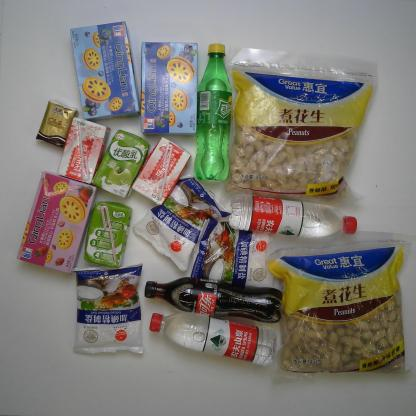Dessert: (16, 171, 100, 274), (67, 20, 141, 122), (138, 37, 205, 135)
Dried Food: (225, 44, 380, 213), (270, 238, 412, 379)
Drink: (149, 306, 278, 367), (144, 272, 283, 326), (194, 41, 235, 182), (228, 194, 360, 236)
Milk: (132, 137, 192, 207), (92, 128, 148, 199), (55, 116, 110, 184), (84, 202, 136, 268)
Seasoner: (133, 174, 232, 271), (72, 262, 147, 358), (188, 225, 278, 287)
Tissue: (33, 99, 75, 146)
